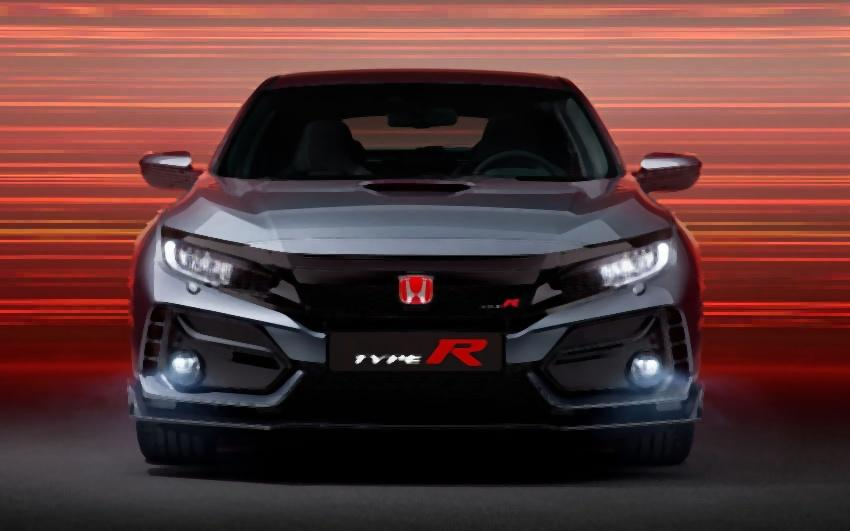Car hood: (155, 173, 675, 258)
Front bumper: (125, 235, 707, 434)
Headlight - -L-: (538, 230, 673, 290)
Headlight - -R-: (158, 227, 277, 297)
Side mirror - -L-: (636, 151, 701, 191)
Side mirror - -R-: (137, 150, 203, 193)
